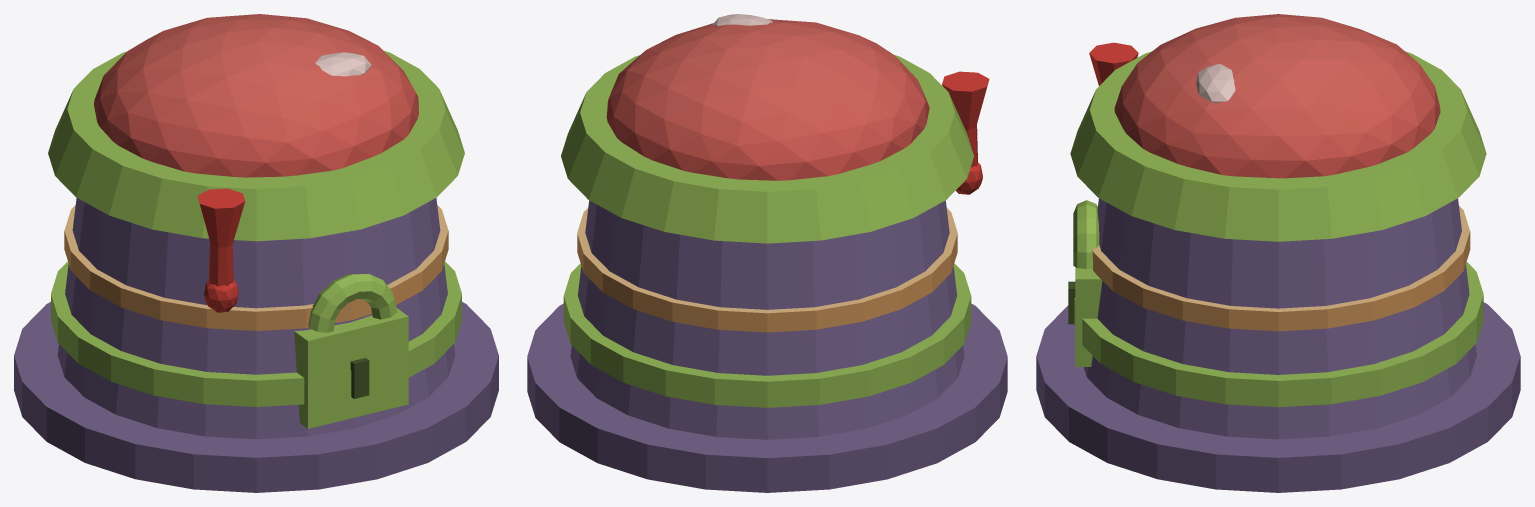
Rendered from goo_lock_button@haunted.fbx.
The picture shows the model from 3 angles, left to right: view 1: azimuth 30°, elevation 25°; view 2: azimuth 150°, elevation 25°; view 3: azimuth 270°, elevation 25°; orthographic projection.
Visible parts, largest first — view 1: goo_lock_button; view 2: goo_lock_button; view 3: goo_lock_button.
Boxes of the visible parts, x1,y1,x2,y2 form: goo_lock_button: (14, 14, 498, 492); goo_lock_button: (527, 14, 1007, 492); goo_lock_button: (1036, 14, 1520, 492).
Bounding box in the file's own units: 5 × 3.97 × 5.
